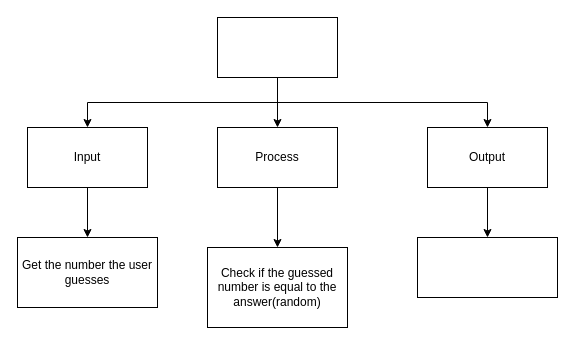
The diagram is 575 pixels wide and 345 high, and some of its shapes have lost their labels. The centre of each missing label's shape, as x and y in pixels:
"Number Guessing Game" goes at point 277,47.
"Show the user their guess is right or wrong," goes at point 487,267.
